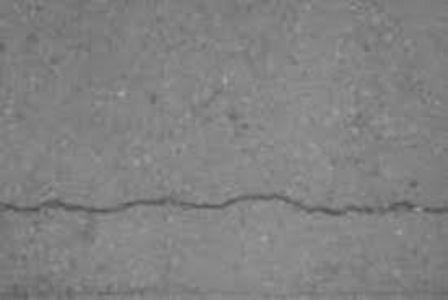pothole: (1, 188, 448, 220)
